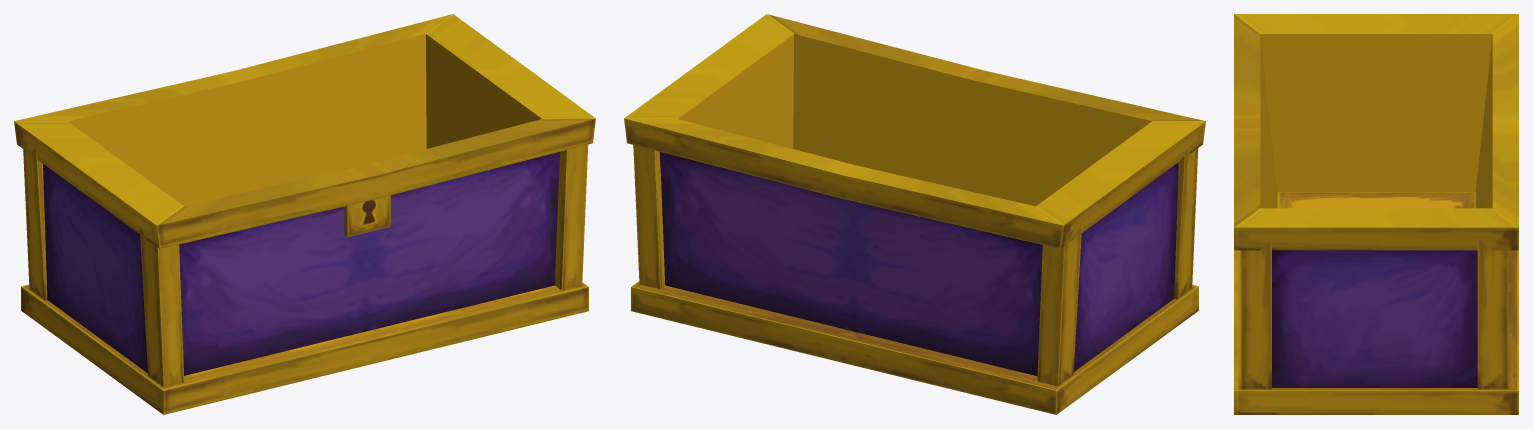
File: e_asset_chest_open_bottom.fbx
3 renders of one model, left to right at view 1: azimuth 30°, elevation 25°; view 2: azimuth 150°, elevation 25°; view 3: azimuth 270°, elevation 25°, orthographic.
Visible parts, largest first — view 1: polySurface3475; view 2: polySurface3475; view 3: polySurface3475.
Part boxes in pixels (bbox=[...]): polySurface3475: bbox=[14, 14, 595, 414]; polySurface3475: bbox=[624, 14, 1205, 414]; polySurface3475: bbox=[1234, 14, 1518, 414].
Size of the model in its own units: 0.5418 by 0.2252 by 0.3049.
